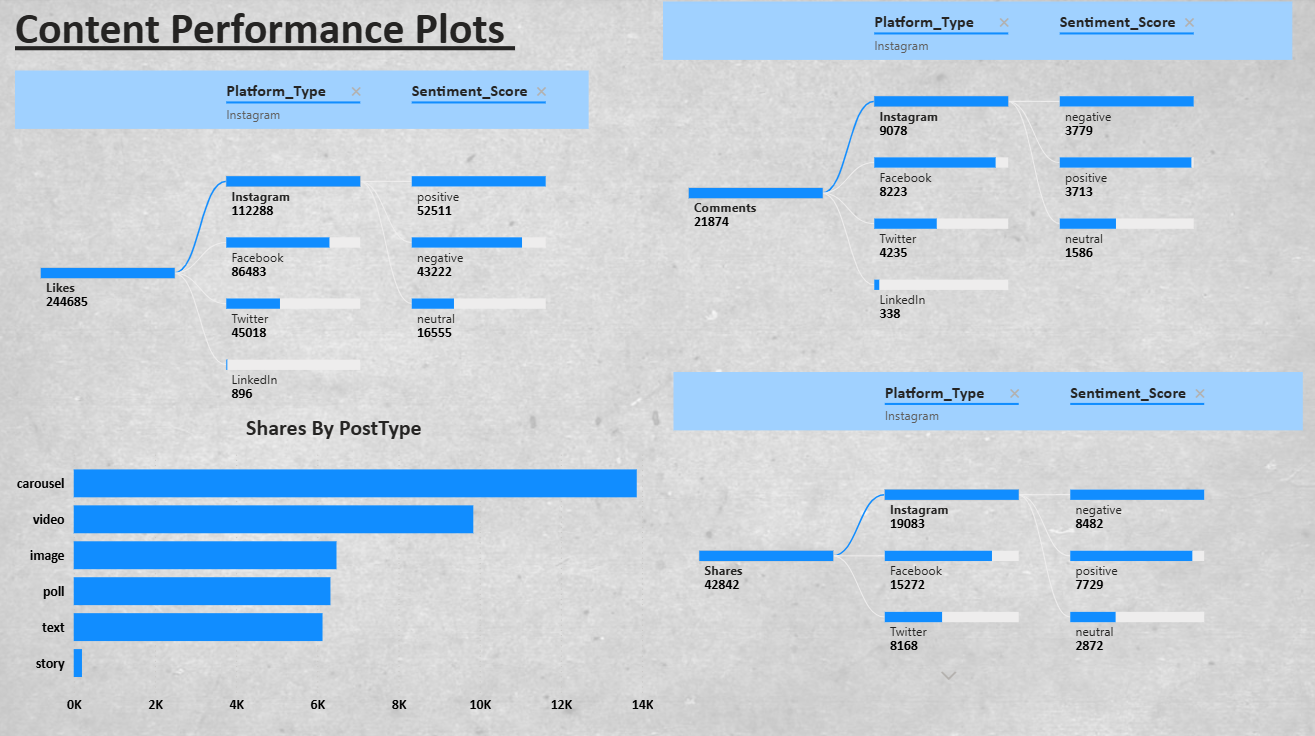

The dashboard page shown, as its layout file describes it:
{"tool":"powerbi","page":{"name":"Content_Performance_Plots","canvas":[1280,720],"ordinal":2},"visuals":[{"type":"textbox","box":[9.9,0,500.3,66.3],"z":0},{"type":"decompositionTreeVisual","fields":{"Analyze":["Sum(social_media_posts.Likes_Count)"],"ExplainBy":["social_media_posts.Platform_Type","social_media_posts.Sentiment_Score"]},"box":[10.1,66.8,567.1,380.8],"z":1000},{"type":"decompositionTreeVisual","fields":{"ExplainBy":["social_media_posts.Platform_Type","social_media_posts.Sentiment_Score"],"Analyze":["Sum(social_media_posts.Comments_Count)"]},"box":[639.4,0,621.2,359.5],"z":2000},{"type":"decompositionTreeVisual","fields":{"ExplainBy":["social_media_posts.Platform_Type","social_media_posts.Sentiment_Score"],"Analyze":["Sum(social_media_posts.Shares_Count)"]},"box":[649.3,359.5,621.2,344.5],"z":3000},{"type":"clusteredBarChart","title":"Shares By PostType","fields":{"Category":["social_media_posts.Post_Type"],"Y":["Sum(social_media_posts.Shares_Count)"]},"box":[9.9,405.8,629.5,298.2],"z":4000}]}

Visuals, with their boxes in screenshot pixels (x1, y1, x2, y2), scaled from the page's 1280x720 canvas onto the 1315x736 screenshot:
textbox: box=[10, 0, 524, 68]
decompositionTreeVisual - Sum(social_media_posts.Likes_Count) x social_media_posts.Platform_Type: box=[10, 68, 593, 458]
decompositionTreeVisual - social_media_posts.Platform_Type x social_media_posts.Sentiment_Score: box=[657, 0, 1295, 367]
decompositionTreeVisual - social_media_posts.Platform_Type x social_media_posts.Sentiment_Score: box=[667, 367, 1305, 720]
"Shares By PostType" clusteredBarChart: box=[10, 415, 657, 720]
